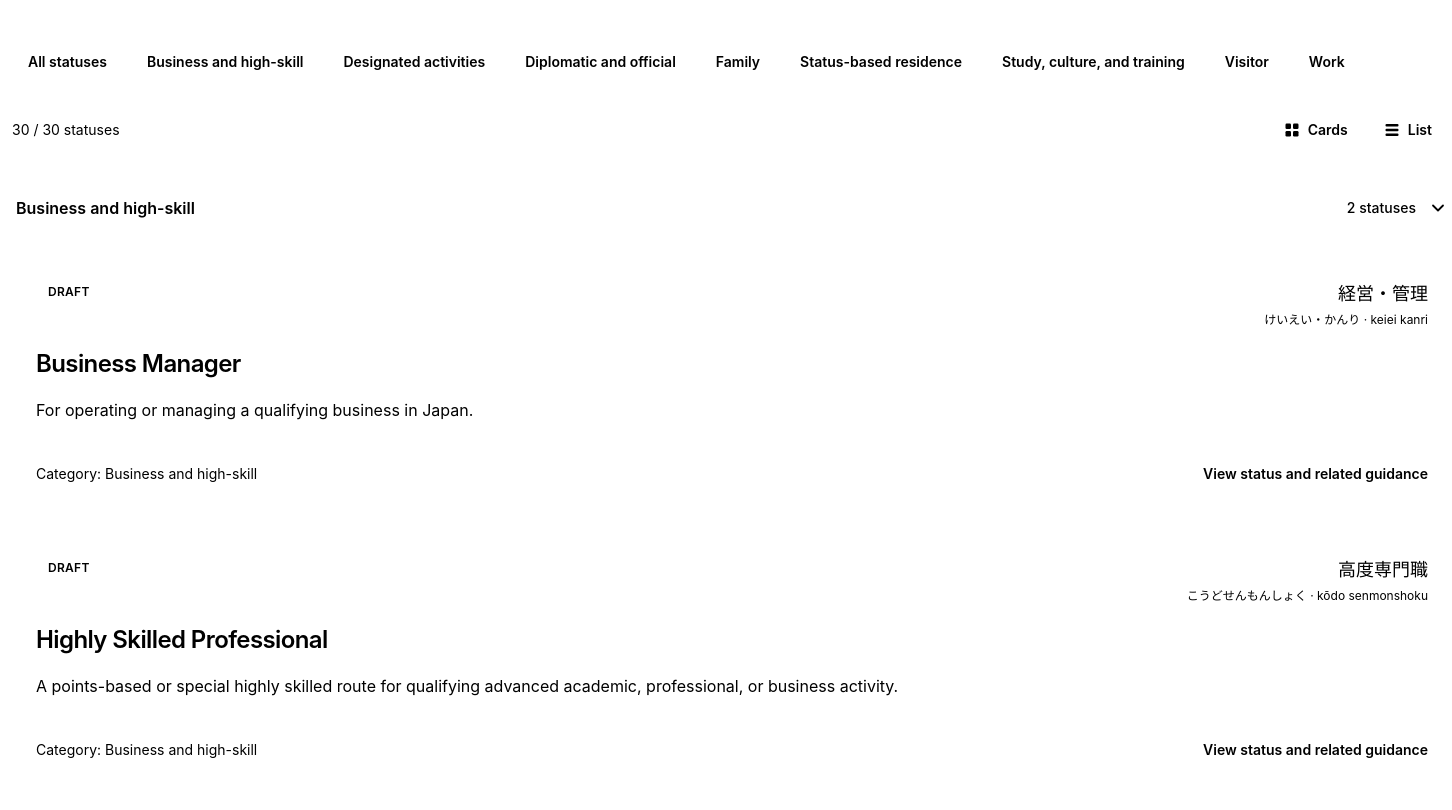
Test case: ResidenceStatusExplorer › filters records by category without labeling every status a draft
Step 1. Click the button "Study, culture, and training" → (1093, 62), box top-left (986, 40), bottom-right (1201, 84)
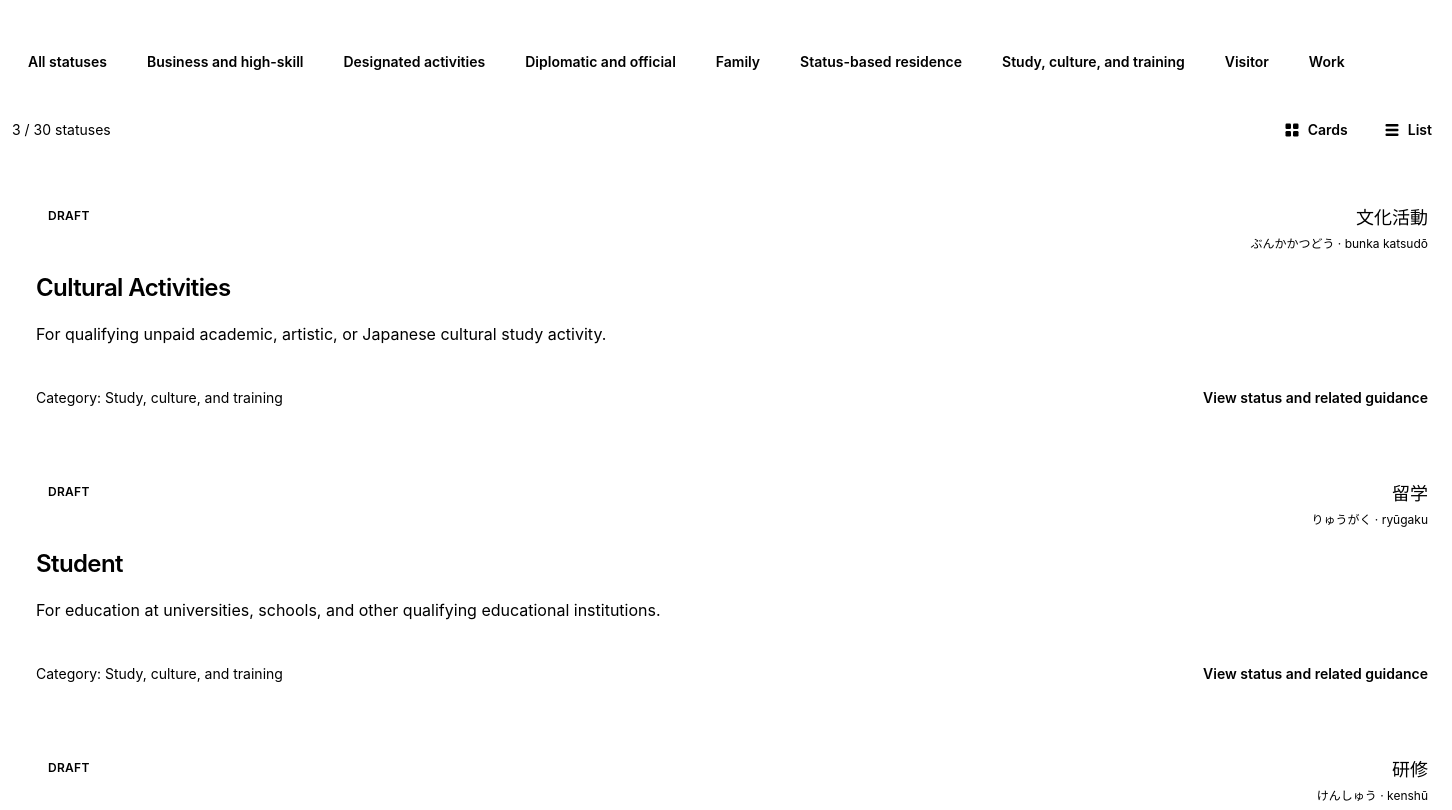
Check: the link "Student" is shown, box top-left (12, 456), bottom-right (1451, 708)
Check: the text "3 / 30 statuses" is shown, box top-left (12, 121), bottom-right (111, 138)
Check: the text "View status and related guidance" is shown 3 times
